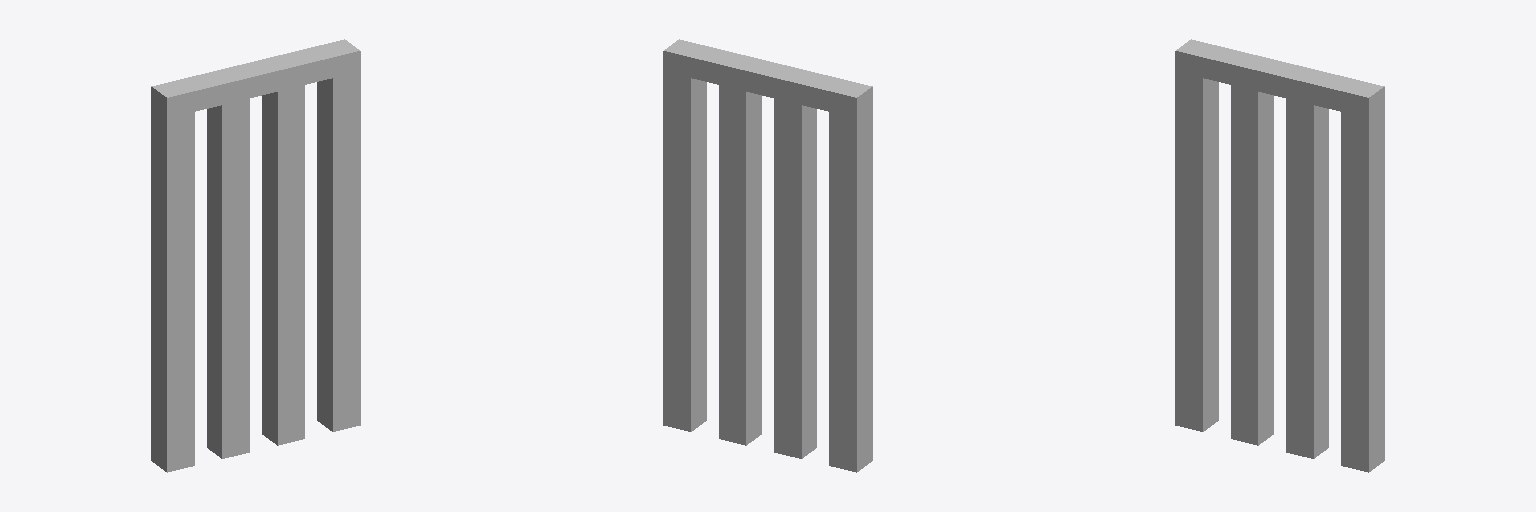
The model's file is chair_Back_1.obj.
3 renders of one model, left to right at view 1: azimuth 30°, elevation 25°; view 2: azimuth 150°, elevation 25°; view 3: azimuth 330°, elevation 25°, orthographic.
Visible parts, largest first — view 1: pCube2; view 2: pCube2; view 3: pCube2.
Part boxes in pixels (bbox=[...]): pCube2: bbox=[151, 39, 360, 472]; pCube2: bbox=[663, 39, 872, 472]; pCube2: bbox=[1175, 39, 1384, 472].
Bounding box in the file's own units: 7.15 × 13.23 × 1.